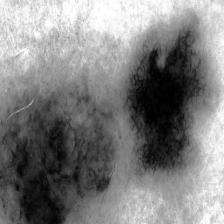Benign Marking or Mole: (0, 95, 114, 224), (127, 14, 214, 176)
